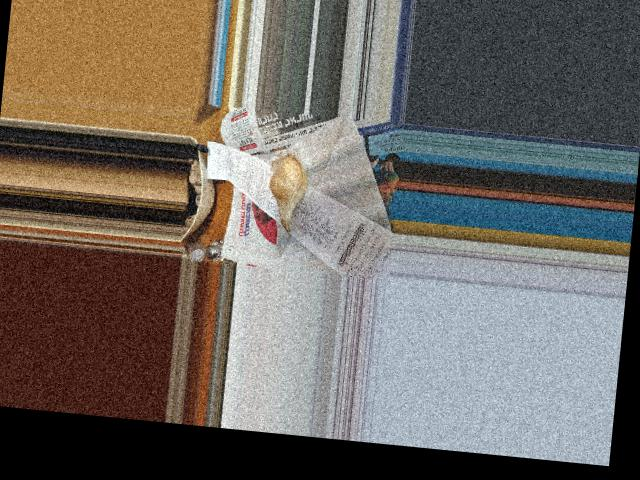onion: (266, 153, 310, 223)
